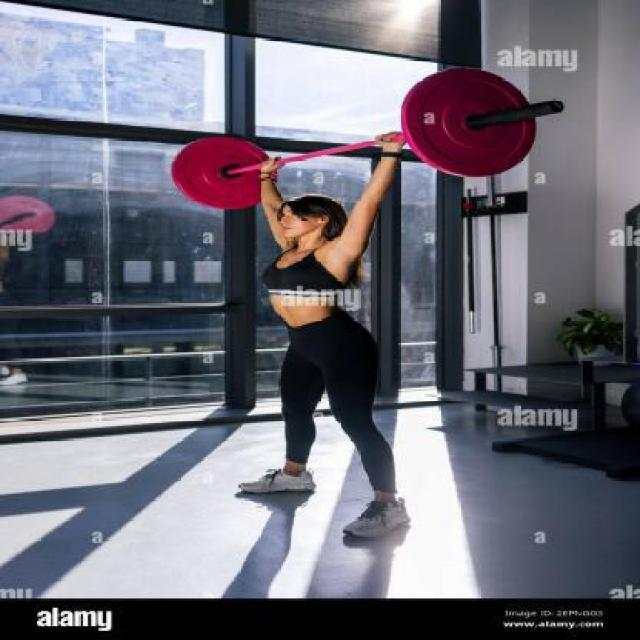barbell: (397, 58, 548, 182)
